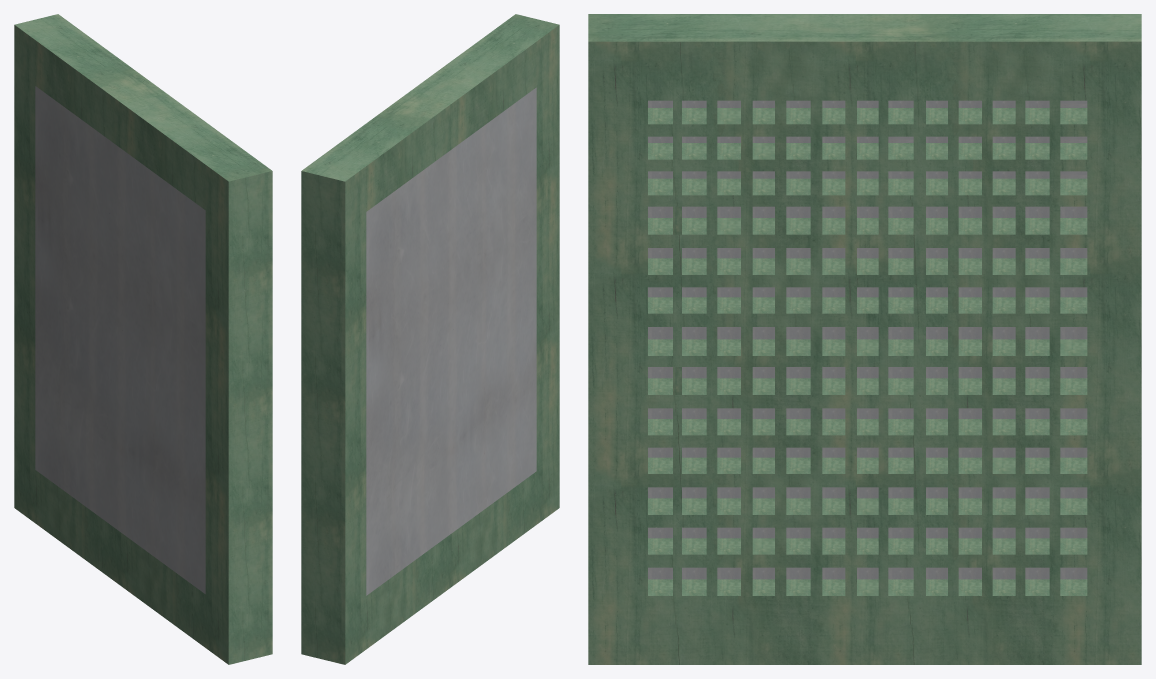
File: SM_WI_Wood_1.fbx
The picture shows the model from 3 angles, left to right: view 1: azimuth 30°, elevation 25°; view 2: azimuth 150°, elevation 25°; view 3: azimuth 270°, elevation 25°; orthographic projection. The views are drawn at different scales.
Parts seen in each view (by area): view 1: SM_WI_Wood_1_LOD0; view 2: SM_WI_Wood_1_LOD0; view 3: SM_WI_Wood_1_LOD0.
Boxes of the visible parts, bbox=[...] form: SM_WI_Wood_1_LOD0: bbox=[14, 14, 272, 664]; SM_WI_Wood_1_LOD0: bbox=[301, 14, 559, 664]; SM_WI_Wood_1_LOD0: bbox=[588, 14, 1141, 664].
Bounding box in the file's own units: 6.47 × 54.8 × 68.14.
Materials: 2 (2 with a texture image).
